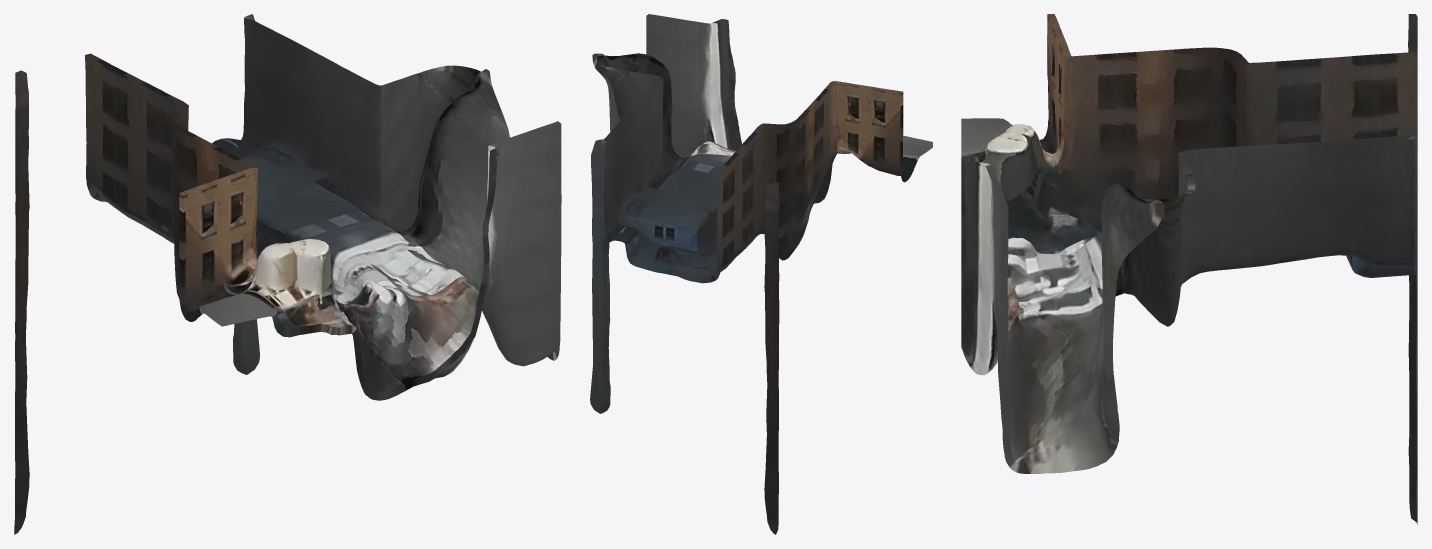
Rendered from z20-167770-405234-h0-yup-uvflip-v3-world.glb.
3 views of the same model, side by side, from view 1: azimuth 30°, elevation 25°; view 2: azimuth 150°, elevation 25°; view 3: azimuth 270°, elevation 25° (orthographic). The views are drawn at different scales.
Bounding box in the file's own units: 30.16 × 37.32 × 30.32.
1 material, 1 textured.
